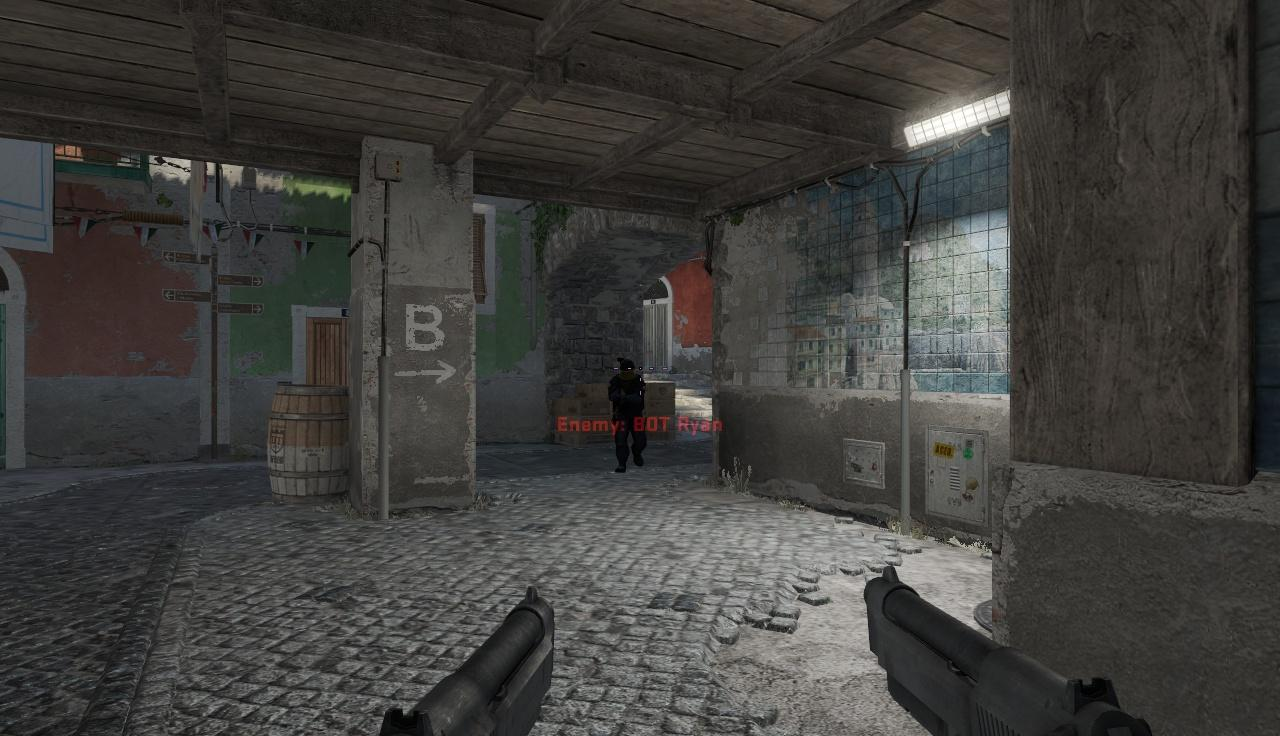ct: (608, 358, 645, 471)
cthead: (619, 359, 635, 380)
pistol: (857, 564, 1160, 736)
